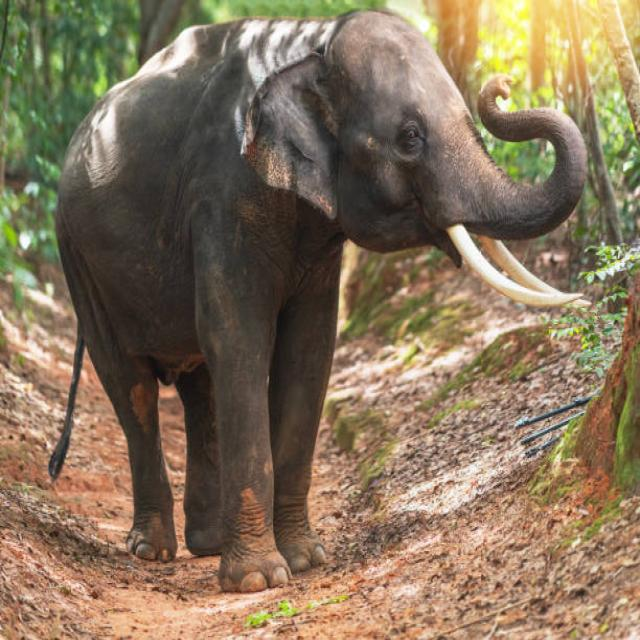Elephant: (42, 14, 592, 590)
